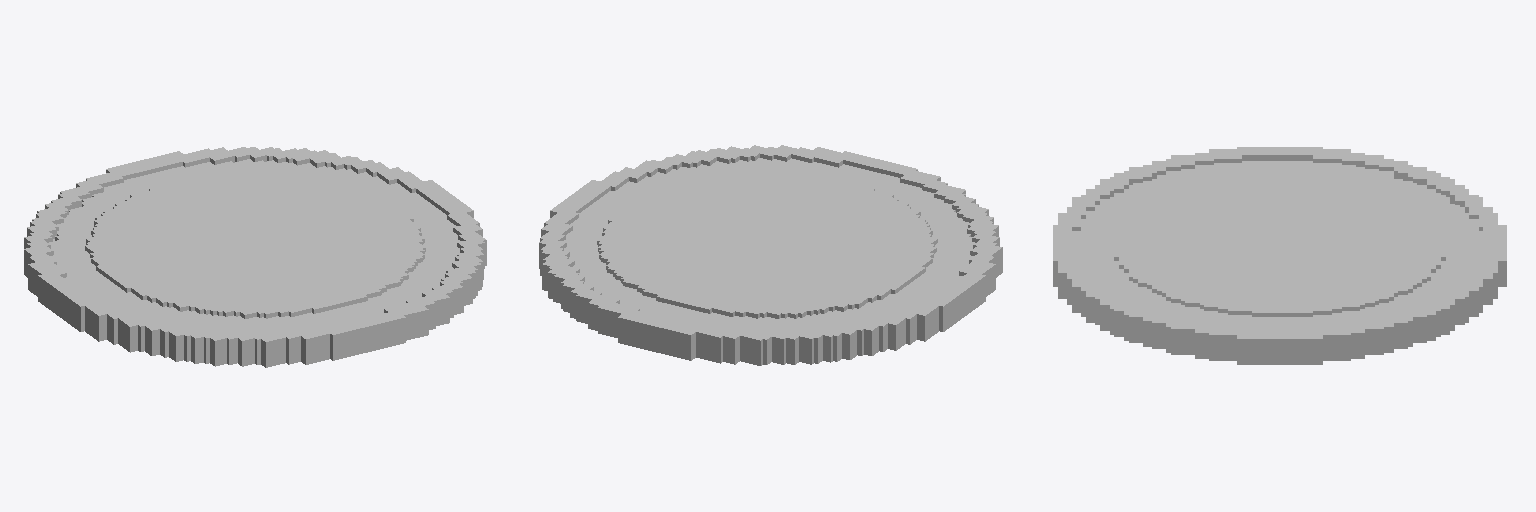
The model's file is PlatoBasePizzaTomate.obj.
The picture shows the model from 3 angles: view 1: azimuth 30°, elevation 25°; view 2: azimuth 150°, elevation 25°; view 3: azimuth 270°, elevation 25°; orthographic projection.
Visible parts, largest first — view 1: object 1; view 2: object 1; view 3: object 1.
Part boxes in pixels (x1,y1,x2,y2): object 1: (24, 147, 486, 367); object 1: (539, 145, 1002, 365); object 1: (1053, 147, 1506, 364).
Size of the model in its own units: 9.6 by 0.6 by 9.6.